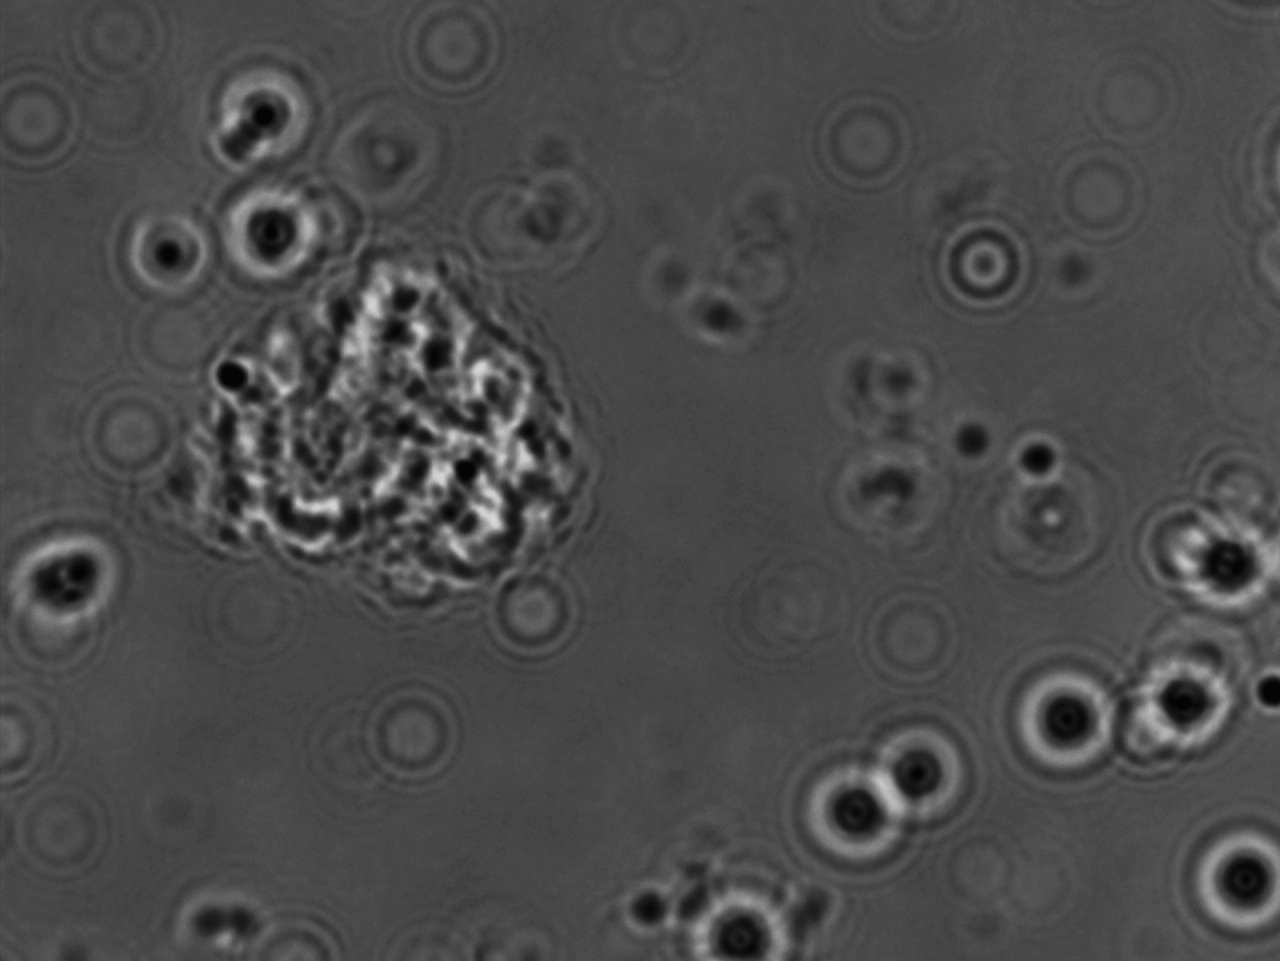depth:-16: (1, 510, 138, 635), (856, 702, 977, 843), (993, 658, 1123, 790), (790, 743, 912, 879), (1115, 649, 1241, 772), (1172, 809, 1280, 949), (217, 177, 328, 287), (207, 61, 317, 165)
